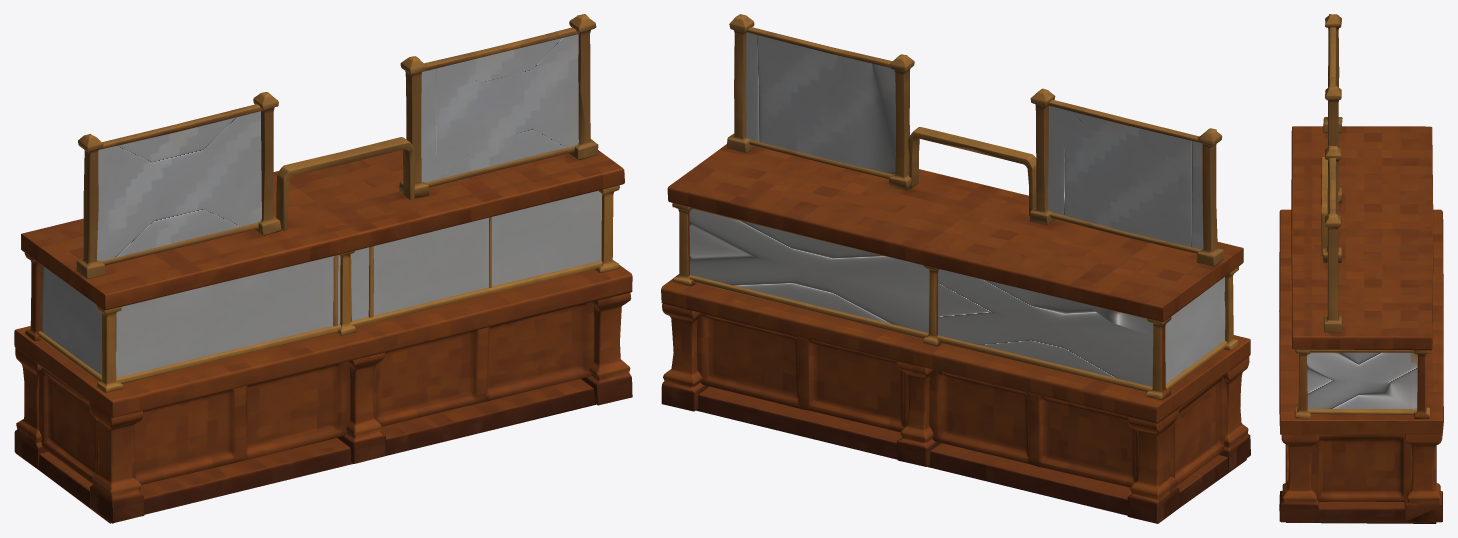
Rendered from counter_glass.glb.
The picture shows the model from 3 angles, left to right: view 1: azimuth 30°, elevation 25°; view 2: azimuth 150°, elevation 25°; view 3: azimuth 270°, elevation 25°; orthographic projection. The views are drawn at different scales.
Visible parts, largest first — view 1: geometry_0; view 2: geometry_0; view 3: geometry_0.
Part boxes in pixels (left/top/right/bottom): geometry_0: left=14, top=14, right=632, bottom=523; geometry_0: left=661, top=14, right=1250, bottom=523; geometry_0: left=1279, top=14, right=1443, bottom=523.
Size of the model in its own units: 1 by 0.6742 by 0.3315.
Materials: 1 (1 with a texture image).
